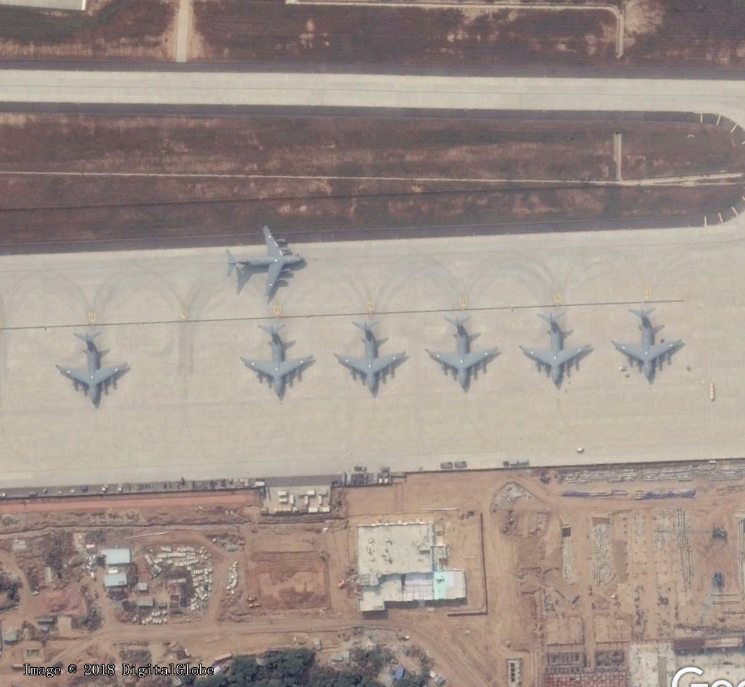A3: (225, 223, 310, 307), (614, 297, 692, 384), (517, 305, 595, 392), (422, 307, 500, 394), (331, 312, 409, 399), (236, 314, 314, 401), (54, 322, 132, 409)
